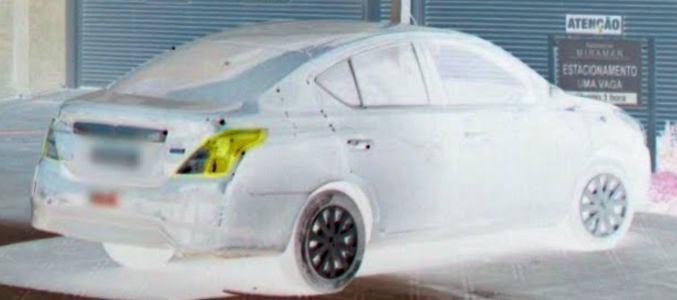car: (29, 18, 652, 293)
